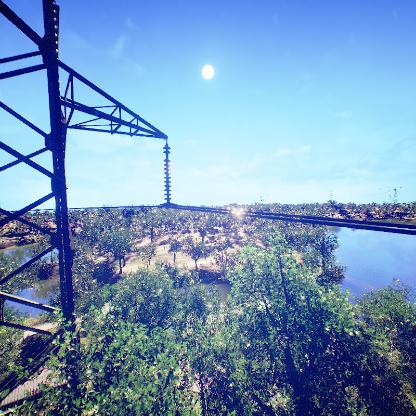insulator: (160, 144, 173, 202)
